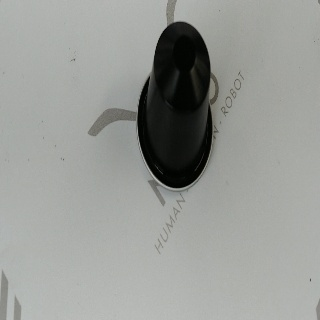capsule_10: (136, 21, 213, 192)
